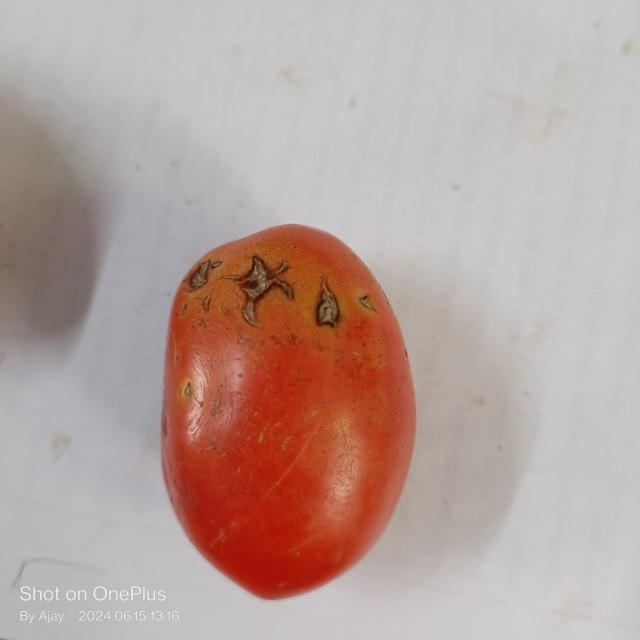Bacterial_Spot: (231, 251, 290, 321), (315, 276, 341, 326), (188, 257, 226, 288), (355, 289, 373, 311)
